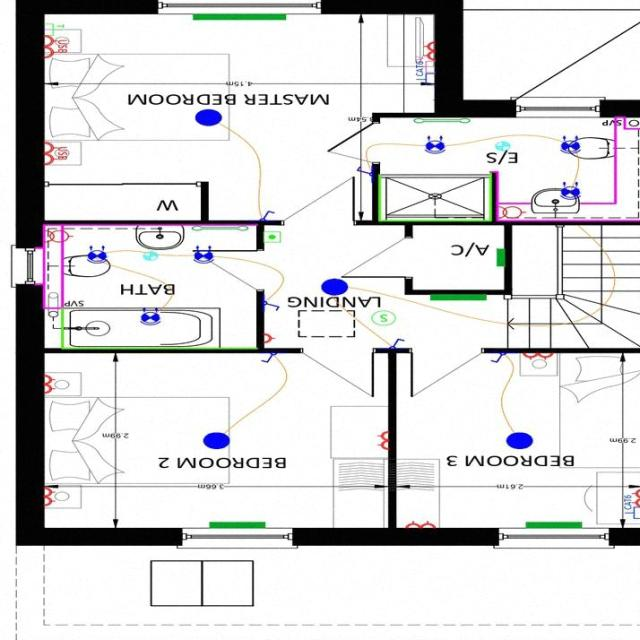Cat 6 Data Socket: (416, 61, 436, 84), (625, 496, 640, 520)
Ceiling Mounted Continuous Extract FanWith Boost Mode Activated By Light Switch: (497, 142, 511, 152), (144, 253, 159, 262)
Co-Ax TV Socket: (417, 58, 436, 74)
Double Socket: (407, 521, 436, 530), (378, 431, 390, 452), (45, 376, 56, 396), (523, 354, 554, 361), (425, 42, 436, 61), (46, 490, 56, 508), (632, 489, 640, 508)
Full Height Tiling: (63, 310, 257, 352), (379, 175, 494, 222)
Light Switch: (260, 210, 276, 222), (358, 166, 373, 178), (262, 353, 277, 365), (390, 339, 406, 349), (266, 301, 280, 312), (492, 354, 506, 364)
Low Energy Downlighter: (561, 183, 583, 201), (426, 136, 446, 155), (88, 247, 108, 266), (141, 308, 162, 326), (561, 137, 582, 154), (195, 247, 214, 264)
Low Energy Pendant Light: (507, 433, 535, 451), (196, 110, 223, 128), (204, 433, 230, 451), (322, 280, 348, 296)
Mains Wired Smoke Detector: (372, 311, 397, 327)
Programmable Room Thermostat: (264, 232, 282, 244)
Radiator: (193, 15, 287, 22), (211, 522, 266, 529), (527, 523, 584, 529), (431, 296, 488, 301), (498, 249, 507, 267)
Shaver Socket: (499, 204, 528, 220), (46, 229, 74, 244)
Single Socket: (265, 334, 277, 344)
Telephone Socket: (46, 25, 65, 37)
USB Double Socket: (45, 143, 67, 166), (46, 37, 68, 59)
